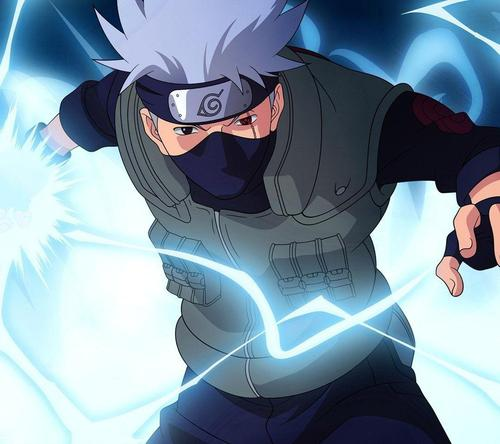kakashi: (130, 67, 288, 207)
